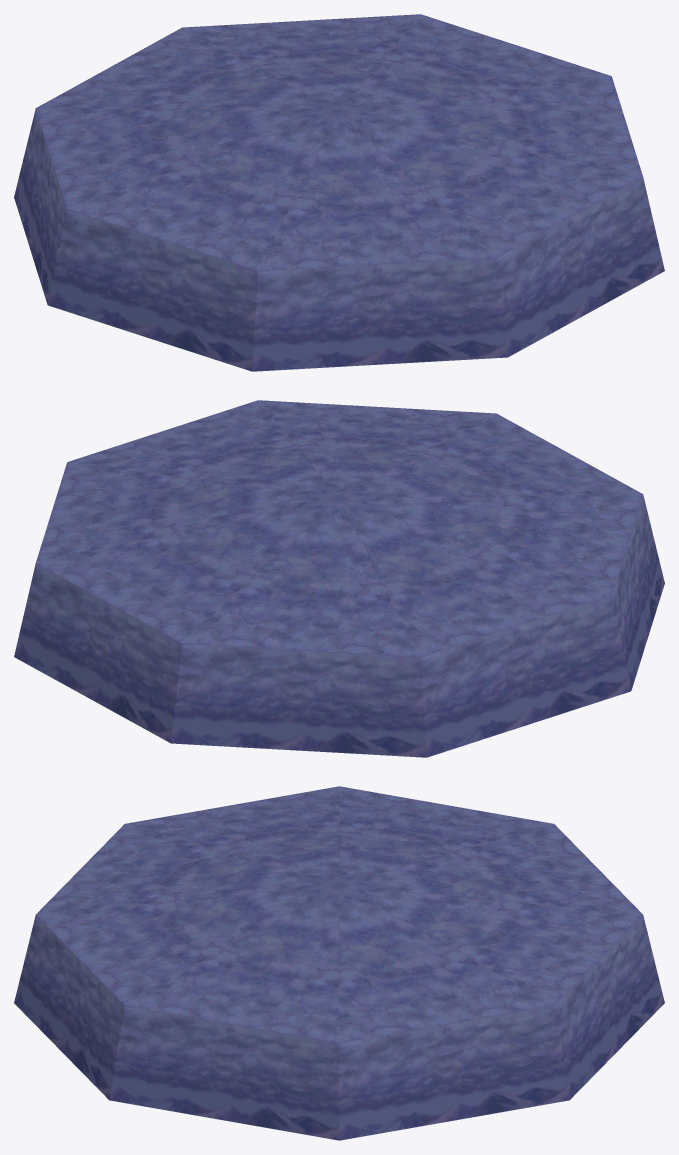
File: old_luigi_agb_V.glb
3 renders of one model, top to bottom at view 1: azimuth 30°, elevation 25°; view 2: azimuth 150°, elevation 25°; view 3: azimuth 270°, elevation 25°, orthographic. The views are drawn at different scales.
Parts seen in each view (by area): view 1: old_luigi_agb_V; view 2: old_luigi_agb_V; view 3: old_luigi_agb_V.
Boxes of the visible parts, x1=… form: old_luigi_agb_V: x1=14, y1=14, x2=664, y2=371; old_luigi_agb_V: x1=14, y1=400, x2=664, y2=757; old_luigi_agb_V: x1=14, y1=786, x2=664, y2=1140.
Bounding box in the file's own units: 625 × 125 × 625.
2 materials, 2 textured.
